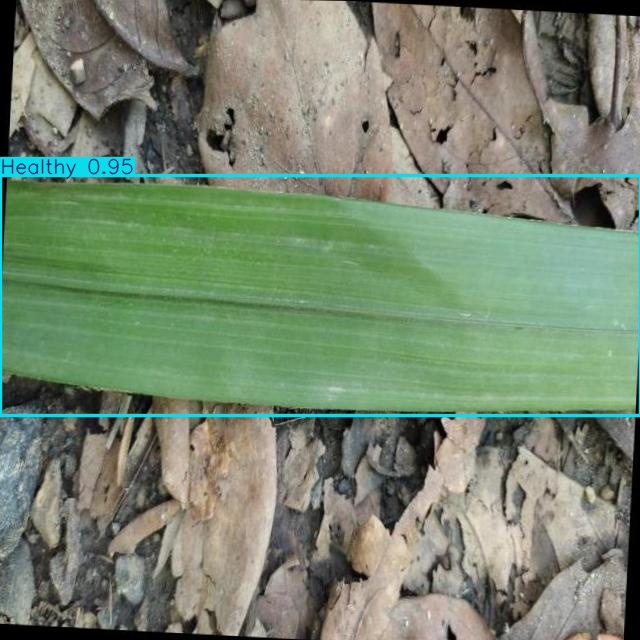Healthy: (0, 175, 640, 415)
